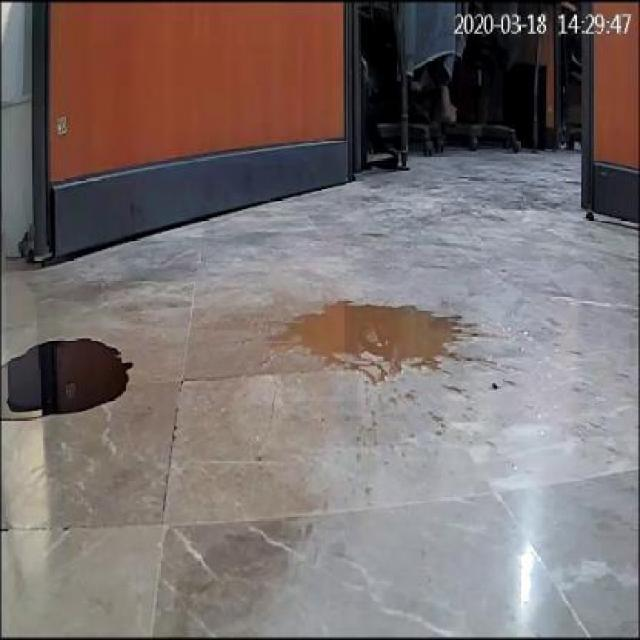spill: (294, 294, 472, 382), (0, 340, 142, 425)
